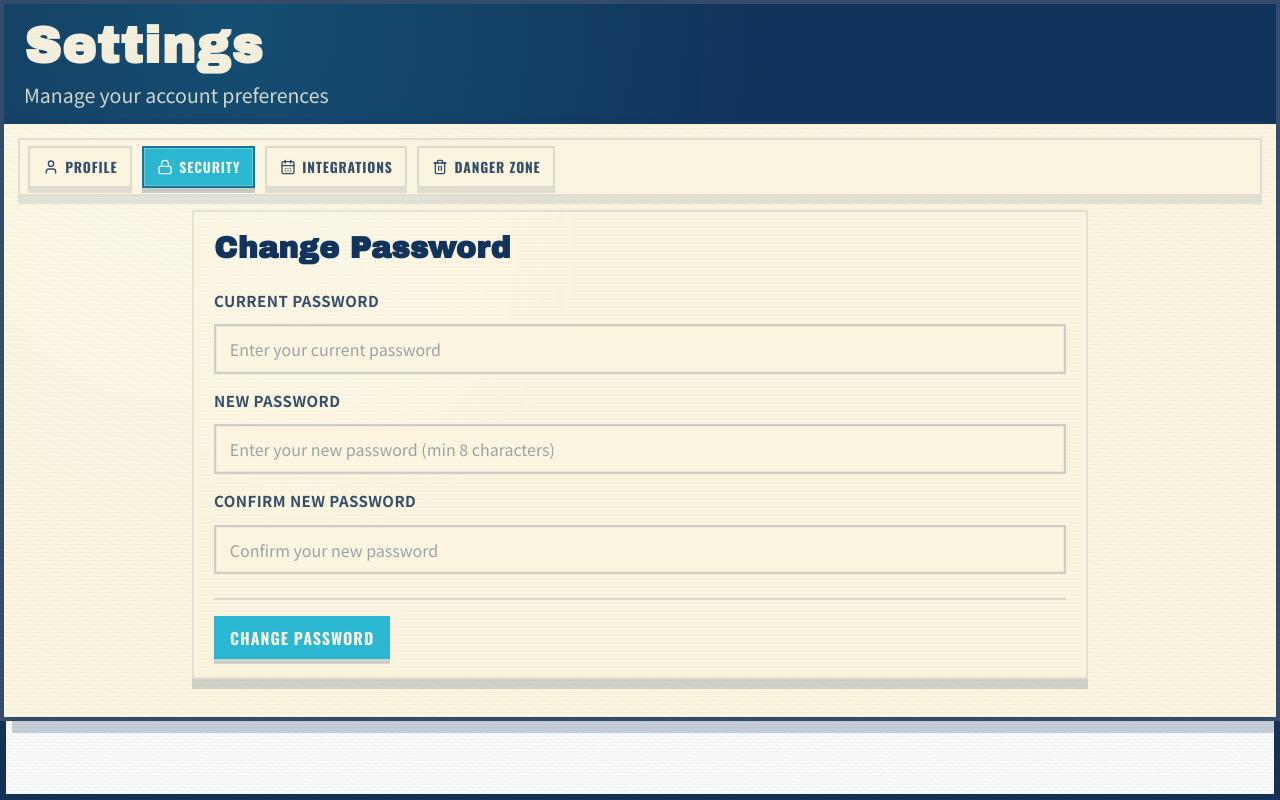
SettingsPage › Security Tab › should validate all fields are required
Step 1. Click the button with test id "settings-button-change-password" → (302, 638), box [214, 616, 390, 659]
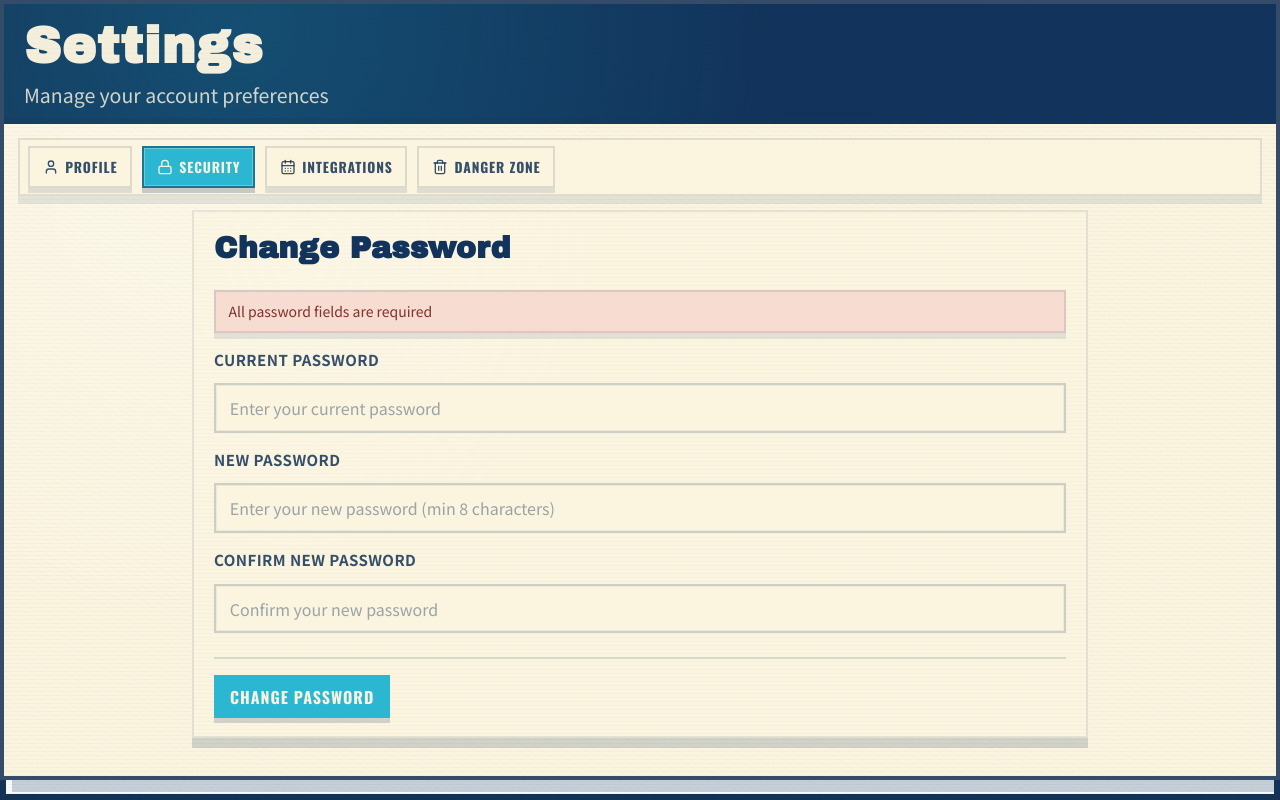
Result: the text "All password fields are required" is shown at [228, 301, 432, 321]
